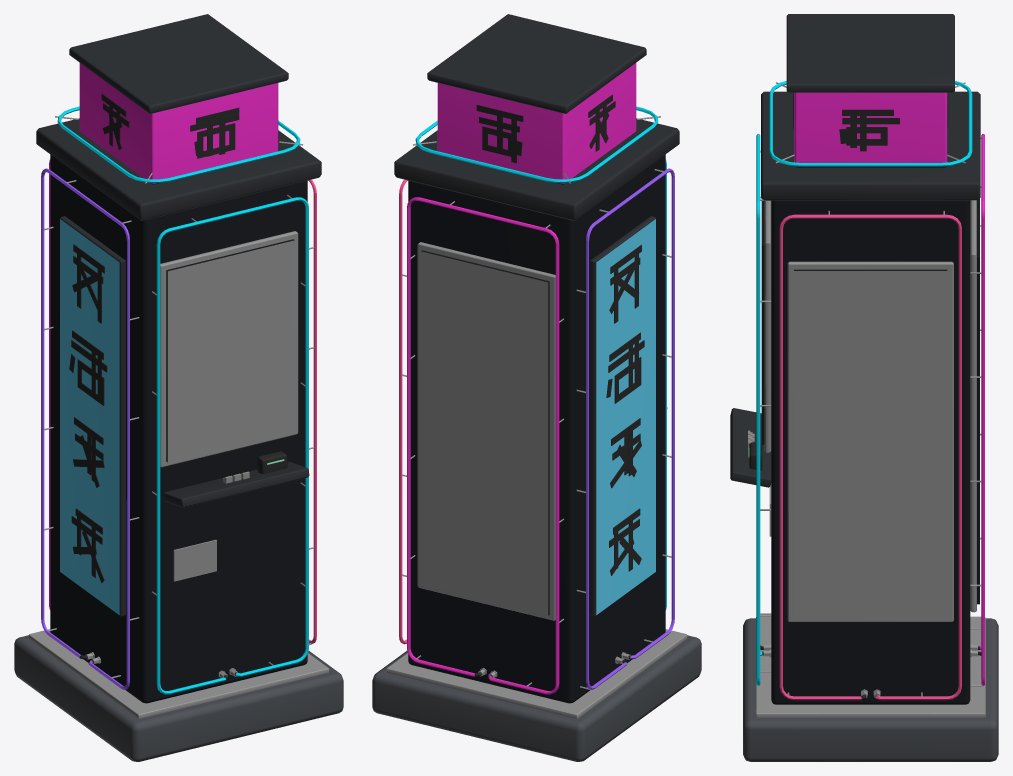
Rendered from Kiosk_Neon.fbx.
3 views of the same model, side by side, from view 1: azimuth 30°, elevation 25°; view 2: azimuth 150°, elevation 25°; view 3: azimuth 270°, elevation 25° (orthographic). The views are drawn at different scales.
Parts seen in each view (by area): view 1: Kiosk_Neon_LOD0; view 2: Kiosk_Neon_LOD0; view 3: Kiosk_Neon_LOD0.
Boxes of the visible parts, bbox=[...] form: Kiosk_Neon_LOD0: bbox=[14, 14, 343, 761]; Kiosk_Neon_LOD0: bbox=[372, 14, 701, 761]; Kiosk_Neon_LOD0: bbox=[730, 14, 998, 761].
Size of what is drawn, in the model's own units: 1 by 2.86 by 1.05.
